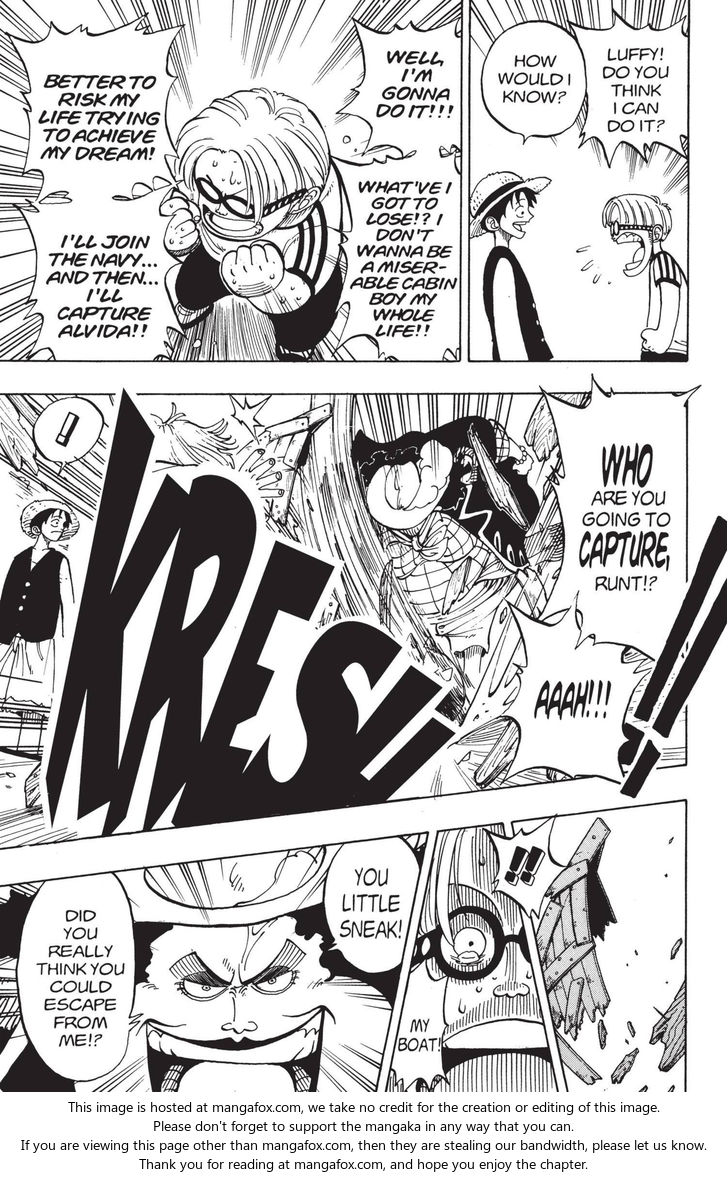bubble: (539, 375, 700, 662), (4, 12, 186, 203), (13, 178, 184, 362), (503, 594, 656, 785), (331, 151, 462, 362), (16, 871, 141, 1085), (569, 10, 690, 166), (337, 18, 464, 157), (323, 835, 420, 975), (481, 21, 588, 146), (486, 816, 569, 919), (390, 959, 447, 1093), (30, 397, 104, 474)
